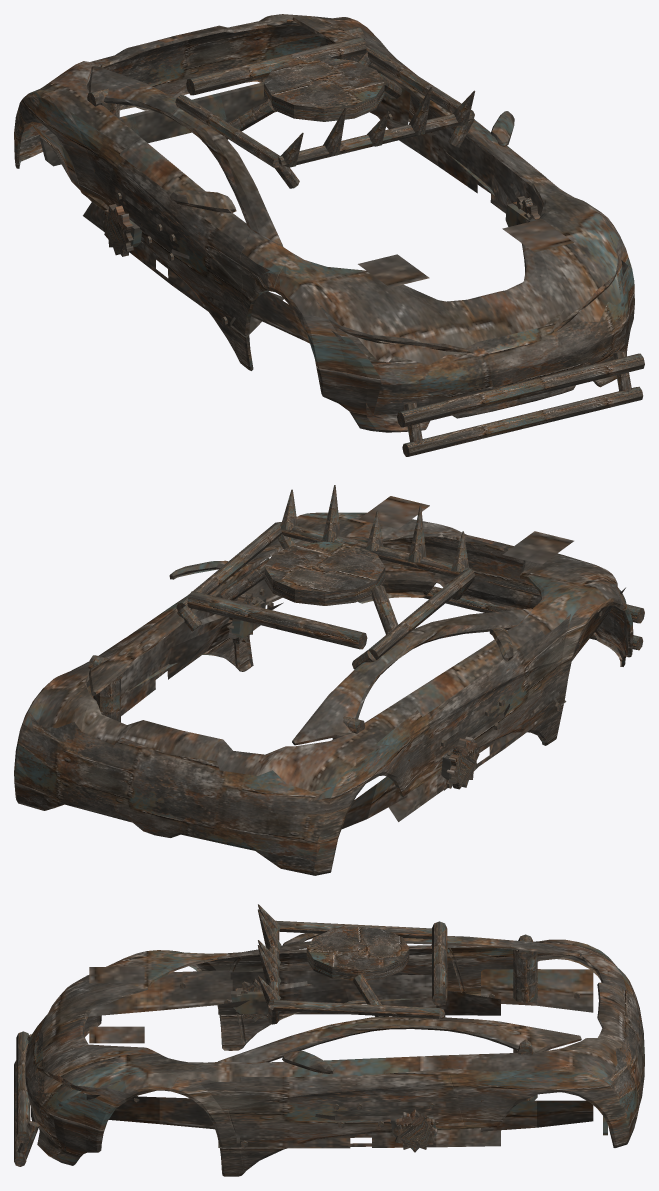
File: falcone_heritage.glb
The picture shows the model from 3 angles, top to bottom: view 1: azimuth 30°, elevation 25°; view 2: azimuth 150°, elevation 25°; view 3: azimuth 270°, elevation 25°; orthographic projection. The views are drawn at different scales.
Visible parts, largest first — view 1: kit-full-plating-painted-metal, kit-bull-bar-painted-metal, kit-turret-mount-painted-metal, kit-cage-painted-metal, kit-scrapper-painted-metal, kit-raider-painted-metal, warlord-crossbar, kit-crown-painted-metal, kit-plate-2-painted-metal, kit-saw-0-guard-painted-metal, kit-plate-1-painted-metal, kit-saw-1-painted-metal; view 2: kit-full-plating-painted-metal, kit-turret-mount-painted-metal, kit-cage-painted-metal, kit-raider-painted-metal, warlord-crossbar, kit-scrapper-painted-metal, kit-crown-painted-metal, kit-plate-3-painted-metal, kit-bull-bar-painted-metal, kit-saw-0-guard-painted-metal, kit-stack-1-painted-metal, kit-saw-1-painted-metal (+1 smaller); view 3: kit-full-plating-painted-metal, kit-turret-mount-painted-metal, kit-raider-painted-metal, kit-scrapper-painted-metal, kit-cage-painted-metal, kit-plate-2-painted-metal, kit-plate-3-painted-metal, kit-plate-0-painted-metal, kit-plate-1-painted-metal, kit-bull-bar-painted-metal, kit-saw-0-painted-metal, kit-crown-painted-metal (+3 smaller).
Part boxes in pixels (<box>): kit-full-plating-painted-metal: <box>14,14,634,432</box>; kit-bull-bar-painted-metal: <box>397,350,644,456</box>; kit-turret-mount-painted-metal: <box>225,57,402,139</box>; kit-cage-painted-metal: <box>175,48,474,188</box>; kit-scrapper-painted-metal: <box>115,115,542,319</box>; kit-raider-painted-metal: <box>83,113,511,337</box>; warlord-crossbar: <box>186,37,366,95</box>; kit-crown-painted-metal: <box>281,86,475,167</box>; kit-plate-2-painted-metal: <box>251,291,345,343</box>; kit-saw-0-guard-painted-metal: <box>102,204,141,256</box>; kit-plate-1-painted-metal: <box>370,87,410,124</box>; kit-saw-1-painted-metal: <box>505,196,540,226</box>; kit-full-plating-painted-metal: <box>14,496,633,875</box>; kit-turret-mount-painted-metal: <box>220,541,398,634</box>; kit-cage-painted-metal: <box>176,522,475,669</box>; kit-raider-painted-metal: <box>121,602,566,821</box>; warlord-crossbar: <box>187,591,367,649</box>; kit-scrapper-painted-metal: <box>121,588,559,753</box>; kit-crown-painted-metal: <box>280,485,468,571</box>; kit-plate-3-painted-metal: <box>341,759,409,829</box>; kit-bull-bar-painted-metal: <box>423,579,644,650</box>; kit-saw-0-guard-painted-metal: <box>441,736,479,789</box>; kit-stack-1-painted-metal: <box>88,655,125,722</box>; kit-saw-1-painted-metal: <box>227,591,266,644</box>; kit-full-plating-painted-metal: <box>25,933,644,1176</box>; kit-turret-mount-painted-metal: <box>306,926,409,1016</box>; kit-raider-painted-metal: <box>218,988,500,1148</box>; kit-scrapper-painted-metal: <box>230,970,445,1137</box>; kit-cage-painted-metal: <box>268,920,445,1024</box>; kit-plate-2-painted-metal: <box>86,970,232,1016</box>; kit-plate-3-painted-metal: <box>481,969,593,1012</box>; kit-plate-0-painted-metal: <box>86,1094,214,1129</box>; kit-plate-1-painted-metal: <box>481,1100,593,1131</box>; kit-bull-bar-painted-metal: <box>14,1031,39,1166</box>; kit-saw-0-painted-metal: <box>390,1109,437,1152</box>; kit-crown-painted-metal: <box>257,904,281,1006</box>.
Bounding box in the file's own units: 2.7 × 1.67 × 4.93.
Materials: 1 (1 with a texture image).
